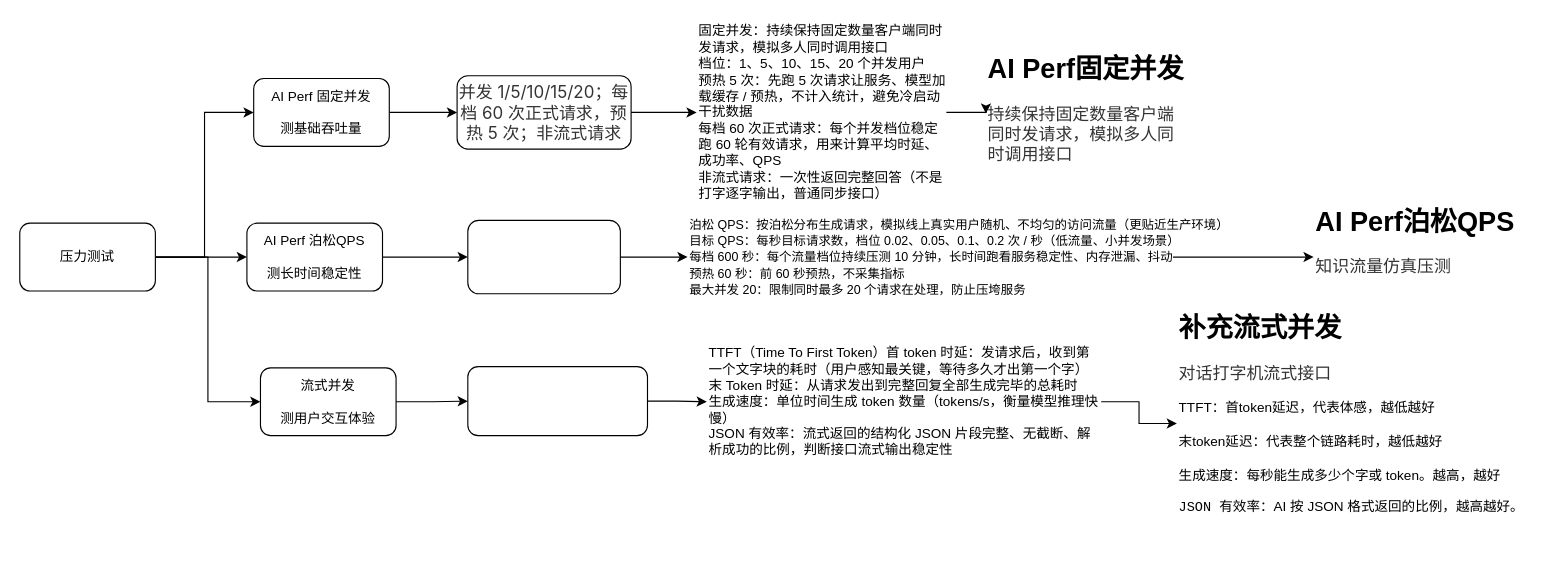
Image size: 1556x565. Some labels were removed from this diagram. The shapes that lost their labels are listed below. From the top down, each one's box as (x1, y1, x2, y2) in pixels, then its label:
(467, 219, 620, 294): 目标 0.02/0.05/0.1/0.2 QPS；每档约 600 秒，预热 60 秒，最大并发 20
(467, 366, 647, 436): 并发 1/5/10/12/15/20；每档 60 次请求；统计 TTFT、末 Token 时延、生成速度和 JSON 有效率
